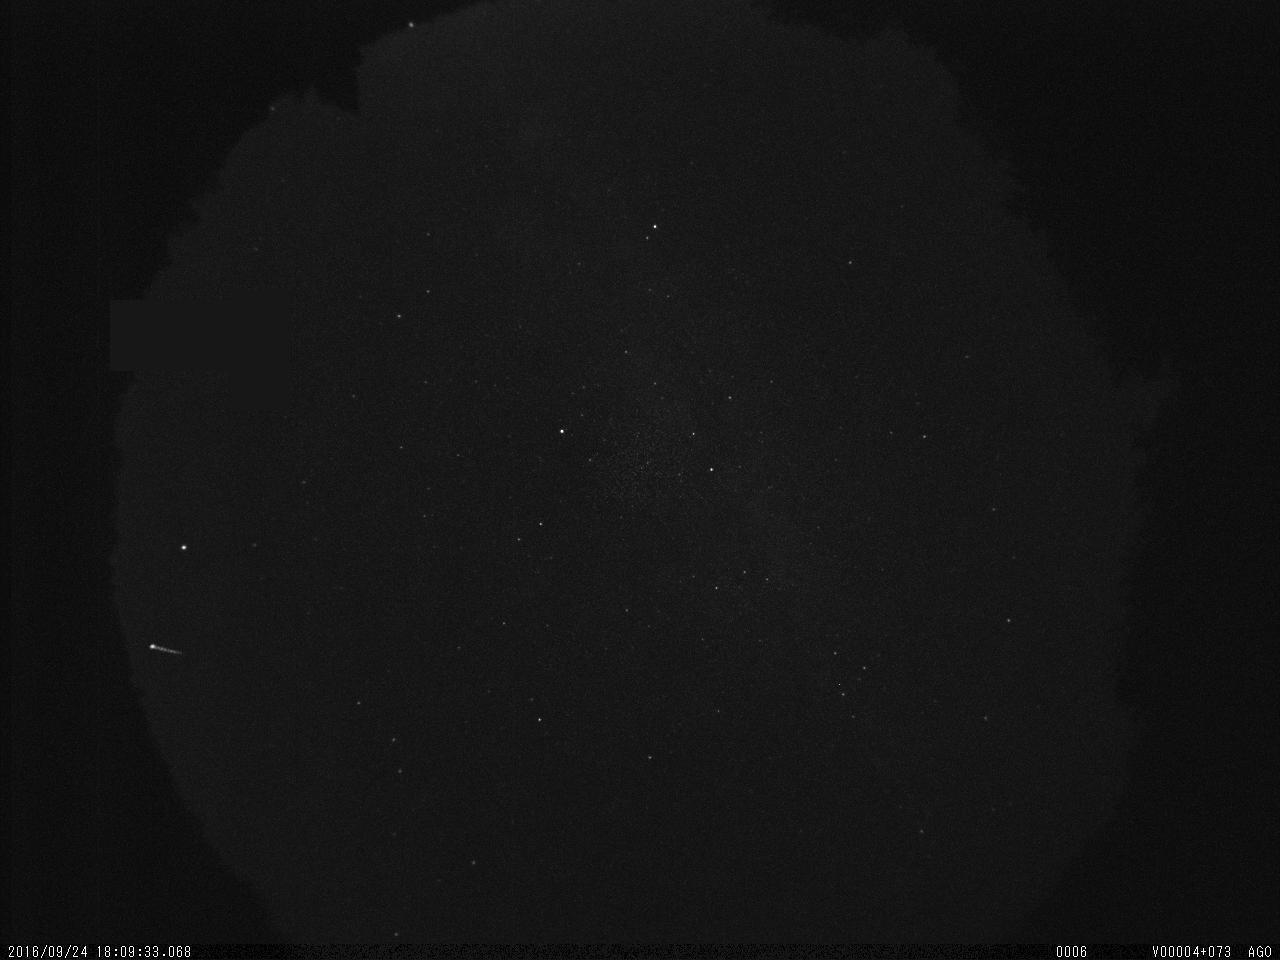meteor: (119, 627, 202, 670)
